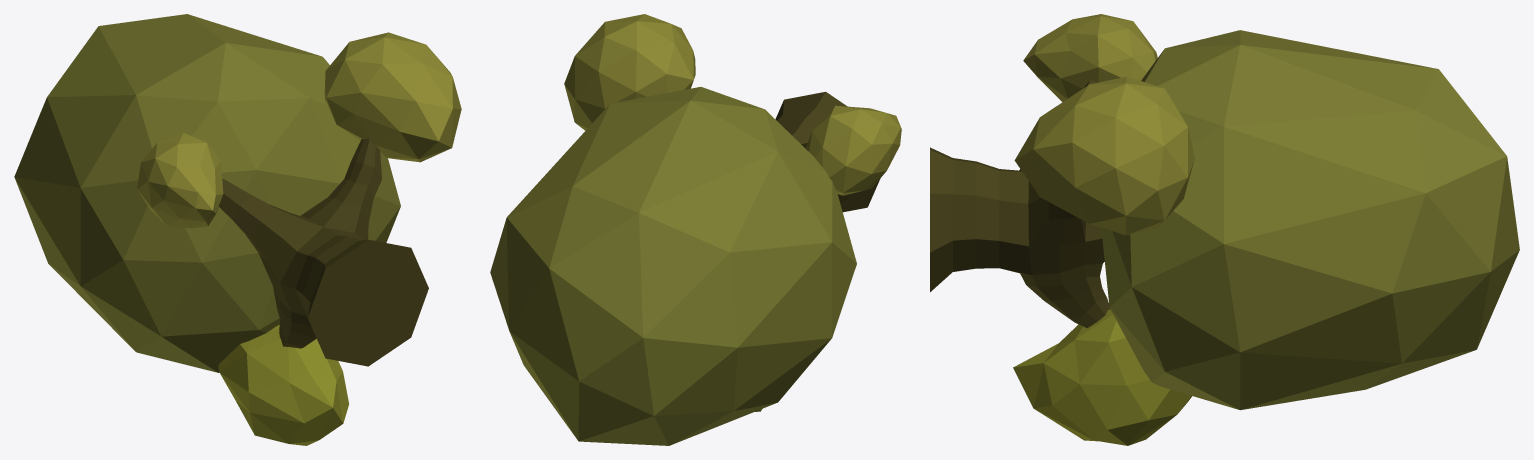
File: WillowTree_3.fbx
3 renders of one model, left to right at view 1: azimuth 30°, elevation 25°; view 2: azimuth 150°, elevation 25°; view 3: azimuth 270°, elevation 25°, orthographic. The views are drawn at different scales.
Visible parts, largest first — view 1: WillowTree_3; view 2: WillowTree_3; view 3: WillowTree_3.
Boxes of the visible parts, x1,y1,x2,y2 form: WillowTree_3: (14,14,461,445); WillowTree_3: (490,14,901,445); WillowTree_3: (930,14,1519,445).
Bounding box in the file's own units: 521 × 587 × 764.
